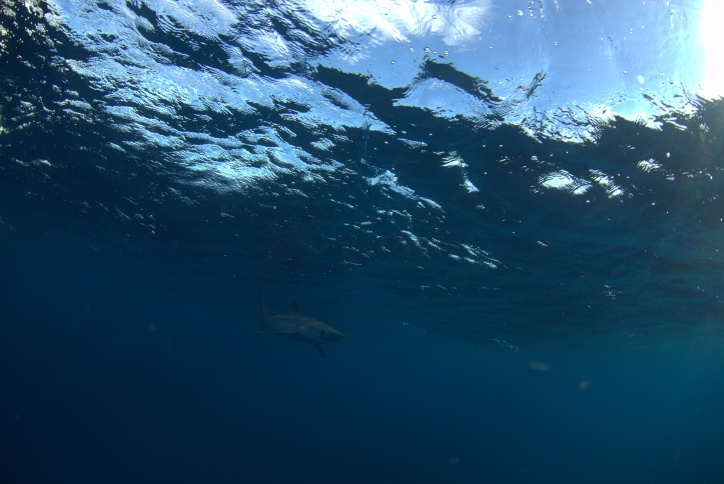Azul: (227, 266, 350, 363)
